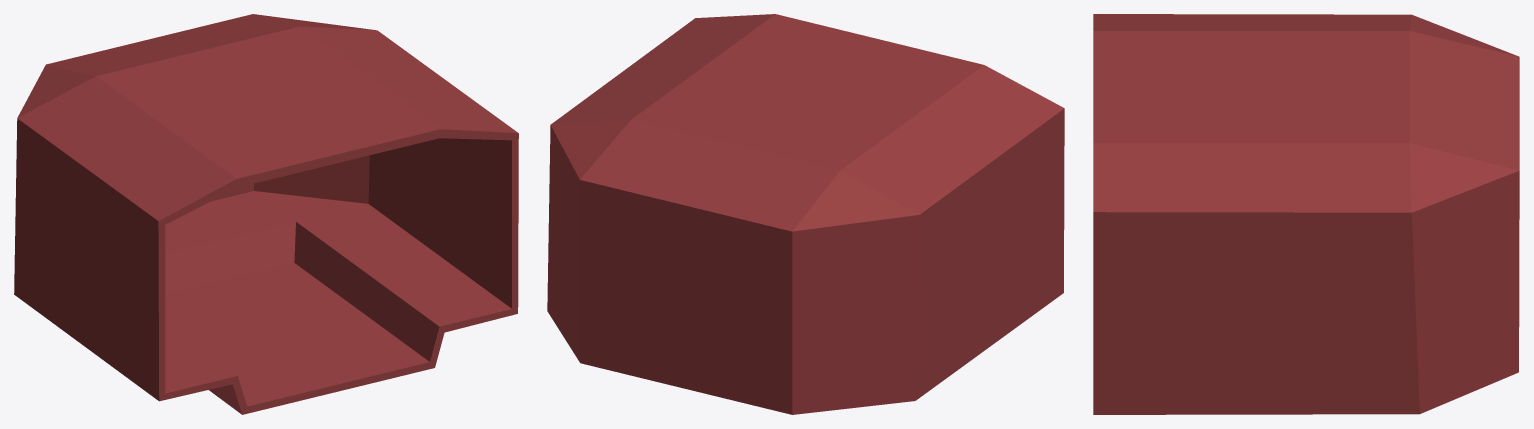
File: Tunnel End.glb
3 views of the same model, side by side, from view 1: azimuth 30°, elevation 25°; view 2: azimuth 150°, elevation 25°; view 3: azimuth 270°, elevation 25° (orthographic). The views are drawn at different scales.
Visible parts, largest first — view 1: Tunnel cap; view 2: Tunnel cap; view 3: Tunnel cap.
Boxes of the visible parts, x1,y1,x2,y2 form: Tunnel cap: (14,14,518,414); Tunnel cap: (547,14,1064,414); Tunnel cap: (1093,14,1519,414).
Bounding box in the file's own units: 6.23 × 3.92 × 5.66.
